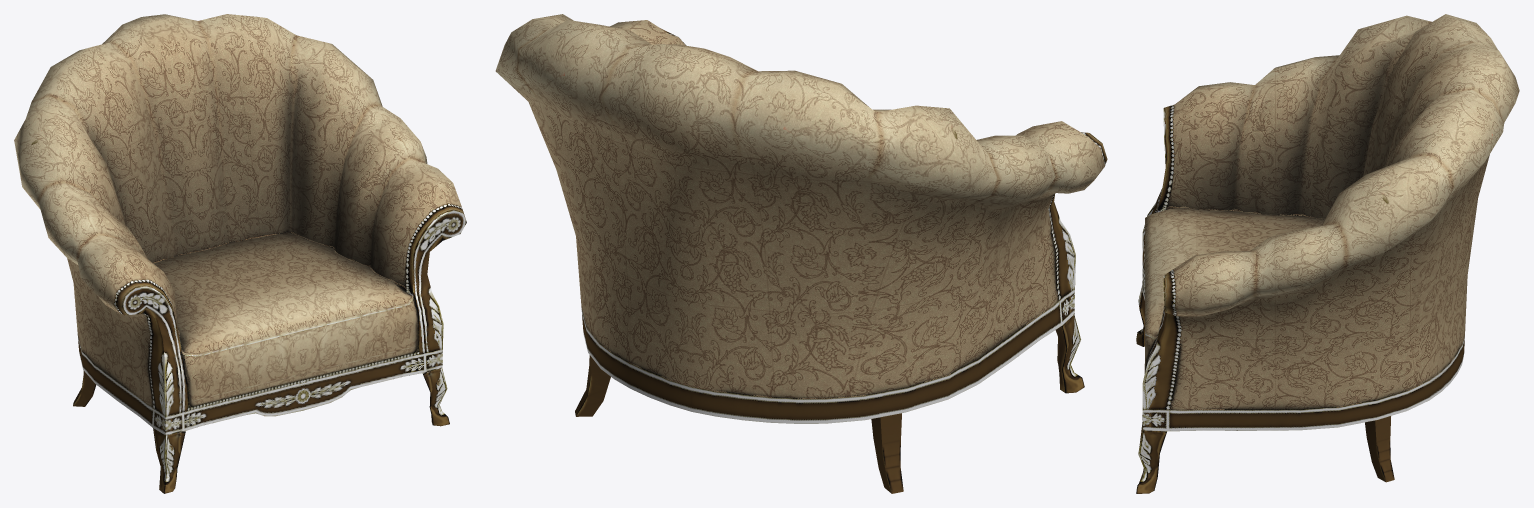
File: Sofa03.FBX
3 renders of one model, left to right at view 1: azimuth 30°, elevation 25°; view 2: azimuth 150°, elevation 25°; view 3: azimuth 270°, elevation 25°, orthographic. The views are drawn at different scales.
Visible parts, largest first — view 1: Sofa03; view 2: Sofa03; view 3: Sofa03.
Boxes of the visible parts, bbox=[...] form: Sofa03: bbox=[14, 14, 466, 493]; Sofa03: bbox=[495, 14, 1107, 493]; Sofa03: bbox=[1136, 14, 1519, 493].
Size of the model in its own units: 163 by 132 by 138.
